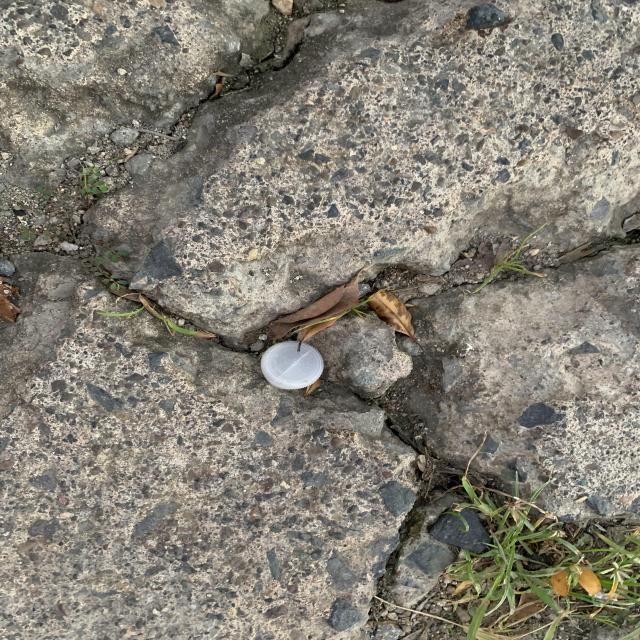litter: (262, 341, 324, 389)
